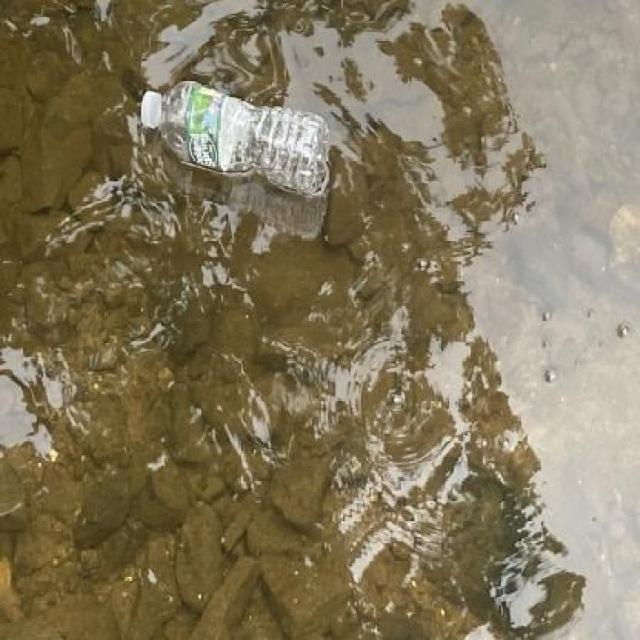Plastic: (131, 74, 334, 209)
